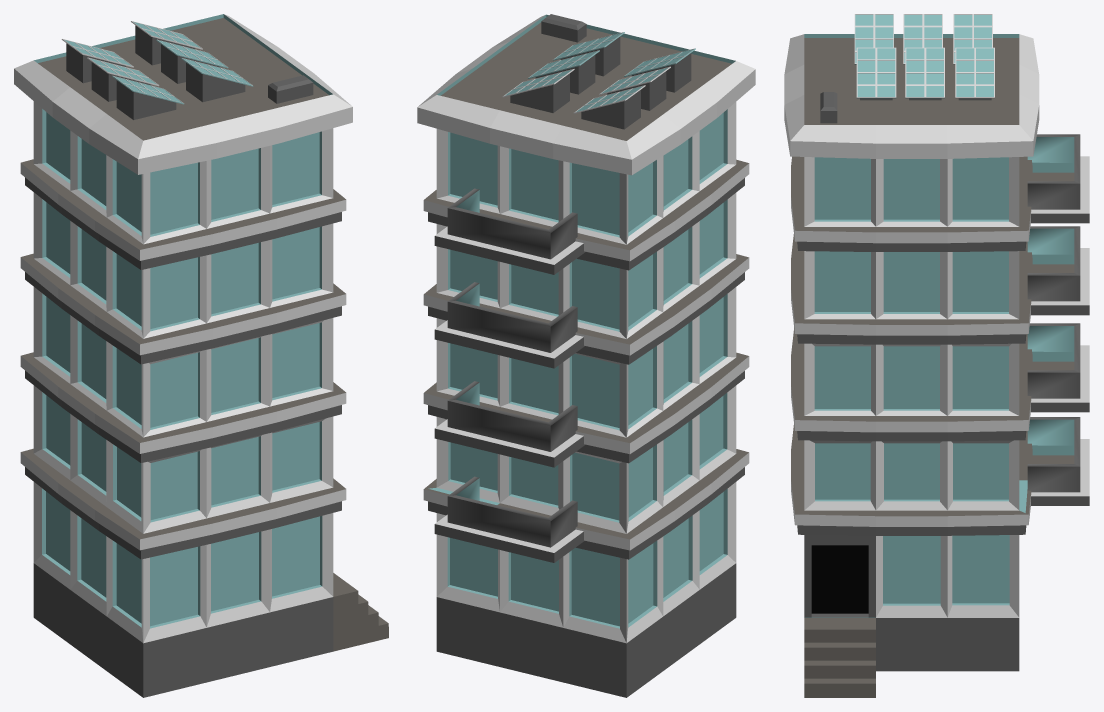
Rendered from Building4.fbx.
3 views of the same model, side by side, from view 1: azimuth 30°, elevation 25°; view 2: azimuth 150°, elevation 25°; view 3: azimuth 270°, elevation 25° (orthographic). The views are drawn at different scales.
Visible parts, largest first — view 1: Building2; view 2: Building2; view 3: Building2.
Part boxes in pixels (x1,y1,x2,y2): Building2: (14,14,388,697); Building2: (417,14,755,697); Building2: (784,14,1089,697).
Size of what is drawn, in the model's own units: 283 by 601 by 290.
